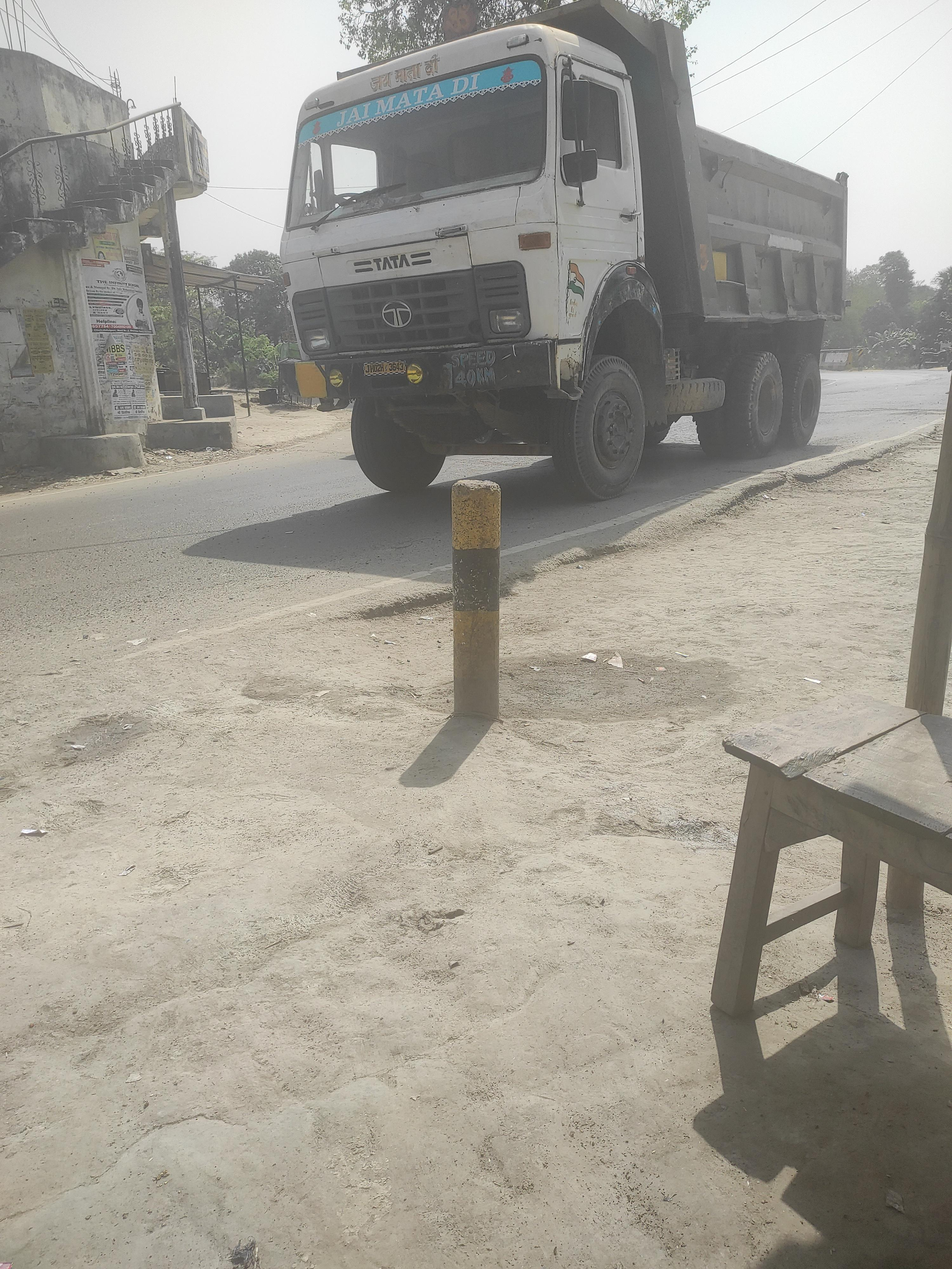non-ambulance: (134, 0, 952, 537)
